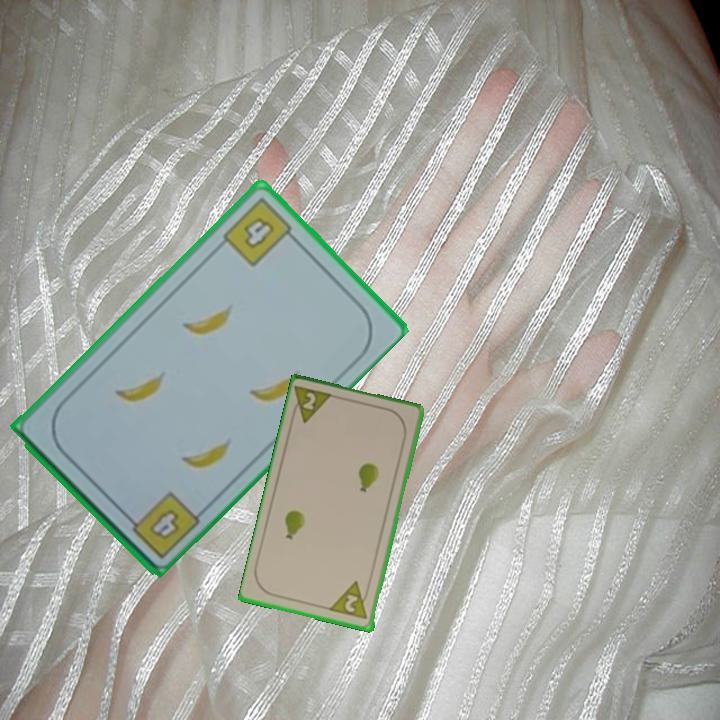2p: (288, 382, 337, 427), (328, 578, 373, 623)
4b: (219, 193, 300, 270), (120, 487, 202, 562)
